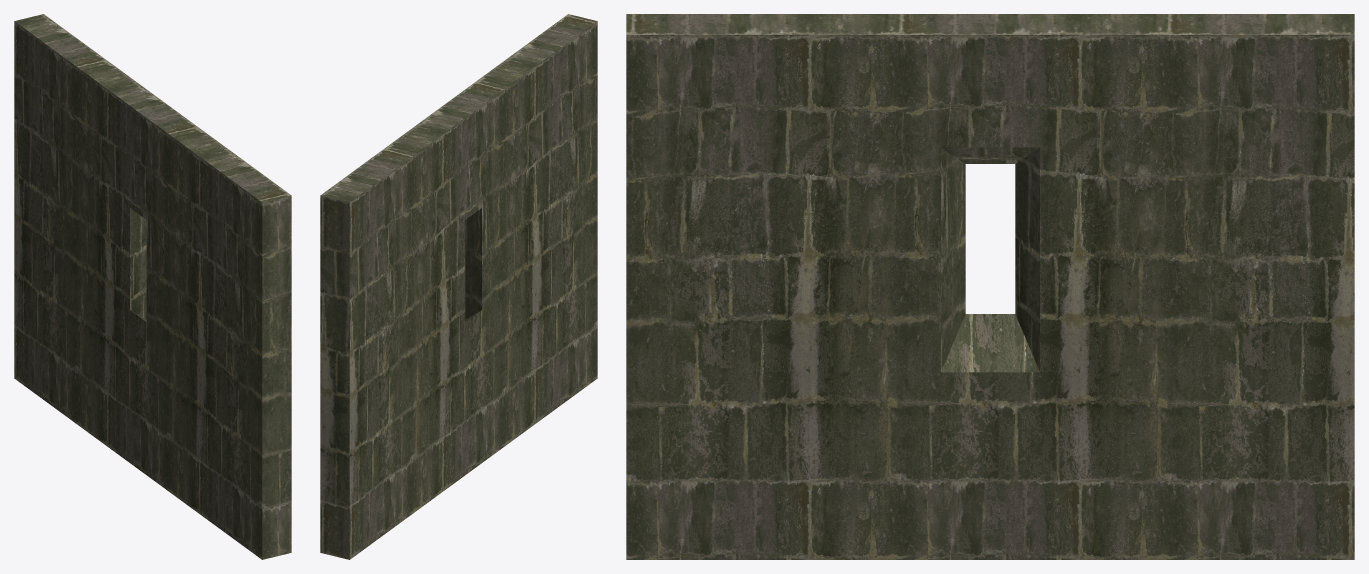
Rendered from Wall_Arrowslit.fbx.
The picture shows the model from 3 angles, left to right: view 1: azimuth 30°, elevation 25°; view 2: azimuth 150°, elevation 25°; view 3: azimuth 270°, elevation 25°; orthographic projection. The views are drawn at different scales.
Visible parts, largest first — view 1: Wall_Arrowslit; view 2: Wall_Arrowslit; view 3: Wall_Arrowslit.
Boxes of the visible parts, left/top/right/bottom form: Wall_Arrowslit: left=14, top=14, right=291, bottom=559; Wall_Arrowslit: left=320, top=14, right=597, bottom=559; Wall_Arrowslit: left=626, top=14, right=1354, bottom=559.
Size of the model in its own units: 51 by 595 by 748.
